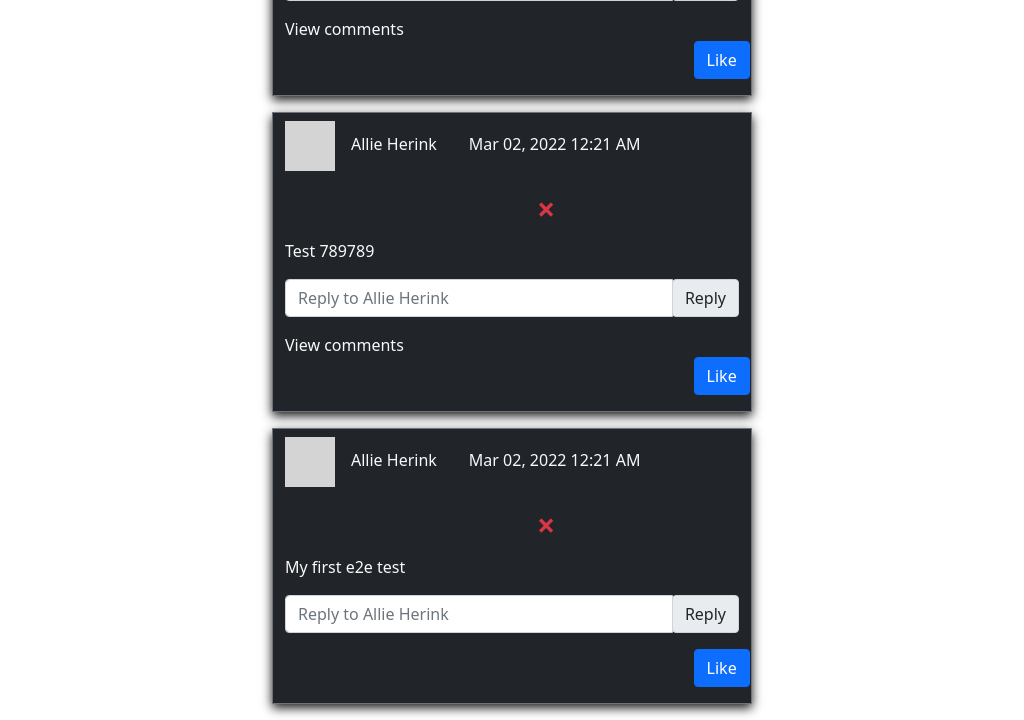
it: Husqr-test › deletes a husq
(page scrolled)
Click the button with id "delete-btn": [546, 525] box x1=525 y1=495 x2=567 y2=555
(page scrolled)
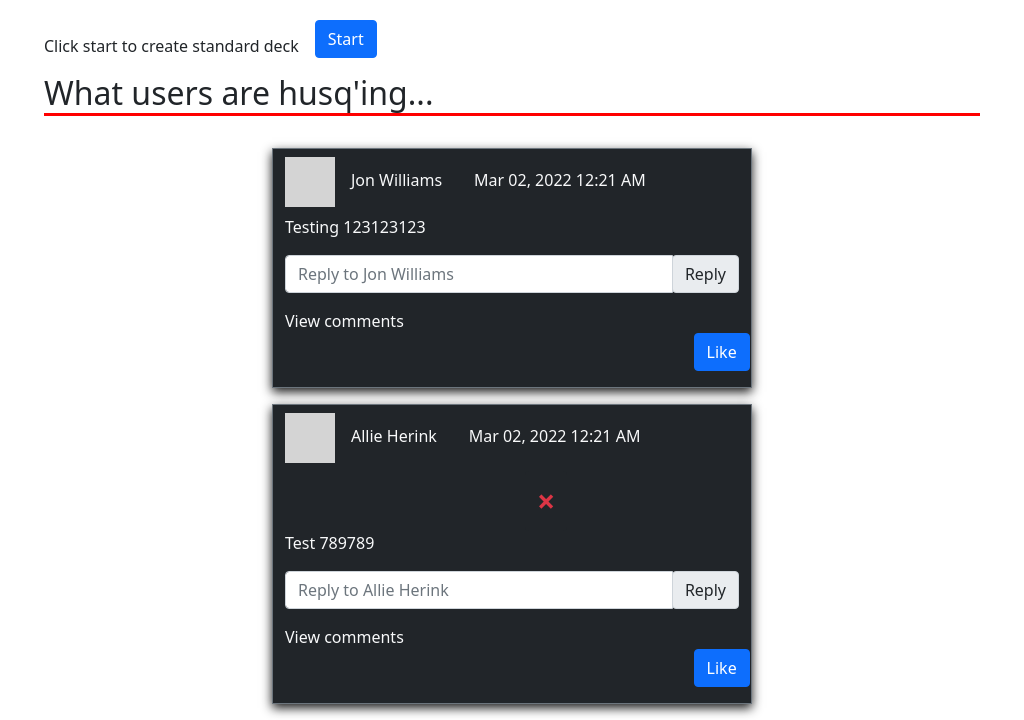
expect the text with class "husq-message" no longer shows "My first e2e test": met
